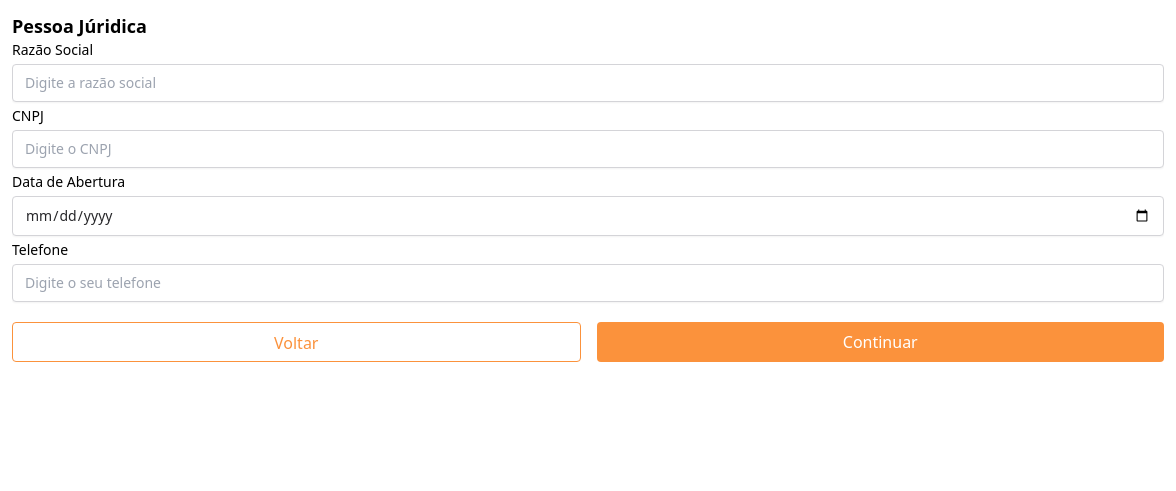
Test case: Step 2 Form - Business › should display validation errors when business form fields are missing
Click the button "Continuar".
click(880, 342)  # box [596, 322, 1164, 362]
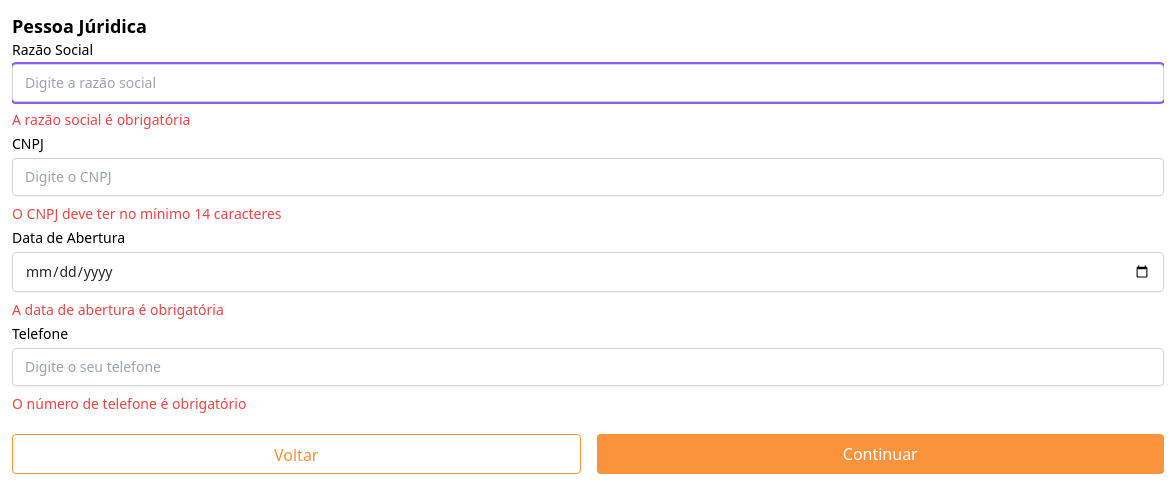
Check: the text "A razão social é obrigatória" is shown, box [12, 110, 190, 129]
Check: the text "O CNPJ deve ter no mínimo 14 caracteres" is shown, box [12, 204, 282, 223]
Check: the text "A data de abertura é obrigatória" is shown, box [12, 300, 224, 319]
